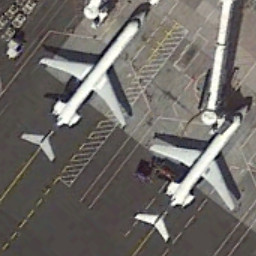Airplane: (10, 5, 152, 167), (130, 96, 254, 250)
